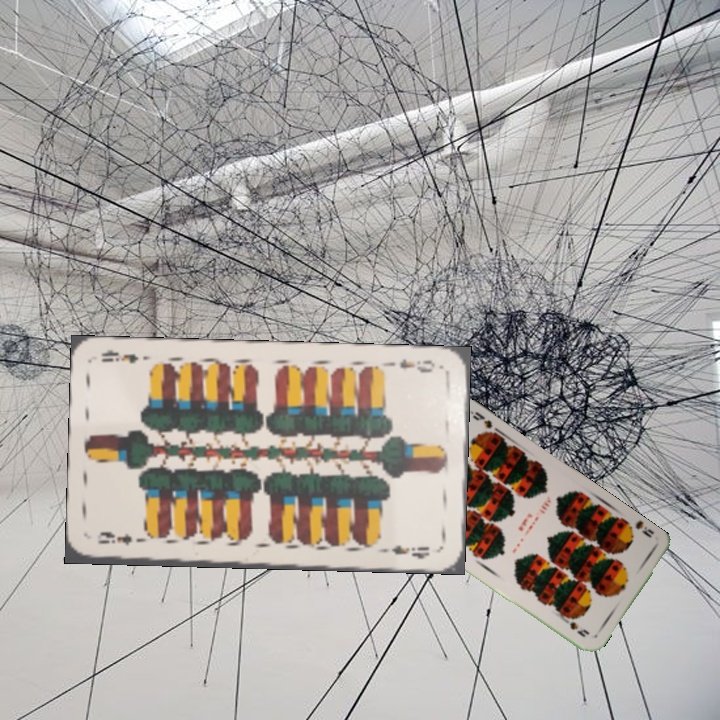E9: (94, 529, 149, 548), (395, 354, 437, 375)
S9: (620, 517, 657, 541)
